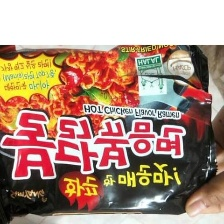snack: (0, 45, 224, 224)
